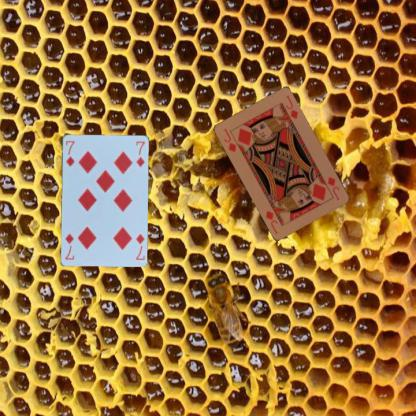7d: (63, 138, 76, 167), (133, 231, 145, 261)
Jd: (221, 126, 238, 154), (325, 174, 341, 202)
